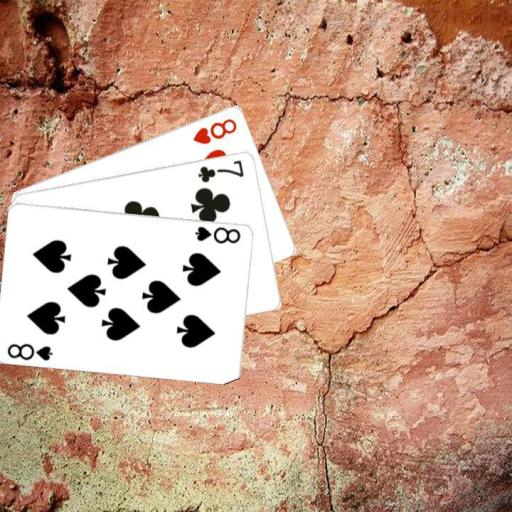7C: (195, 157, 245, 184)
8H: (189, 114, 239, 146)
8S: (4, 340, 55, 362), (192, 223, 242, 245)
